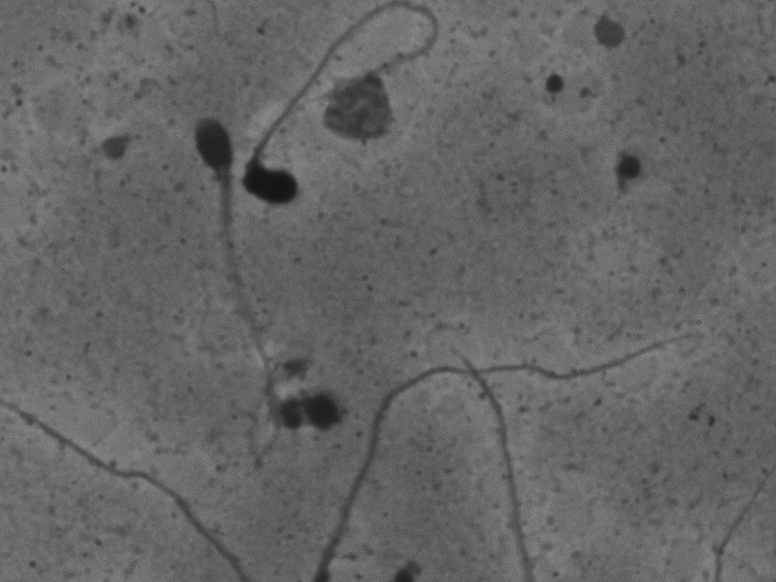Abnormal: (239, 2, 485, 229), (154, 90, 302, 433)
